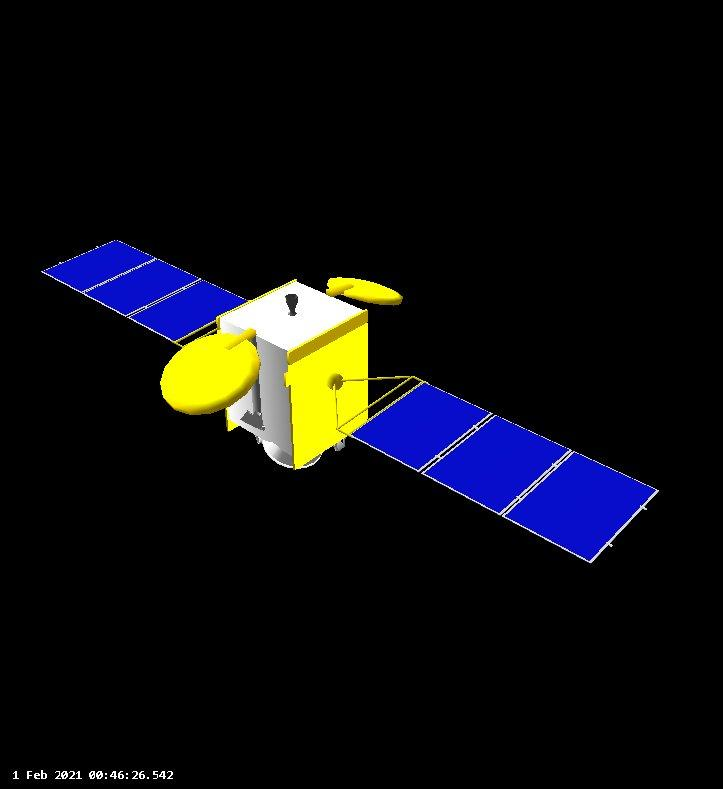antenna: (159, 328, 261, 418), (324, 270, 406, 311)
body: (212, 273, 379, 469)
solar: (329, 363, 662, 573), (37, 234, 263, 356)
thruster: (257, 429, 327, 470)
